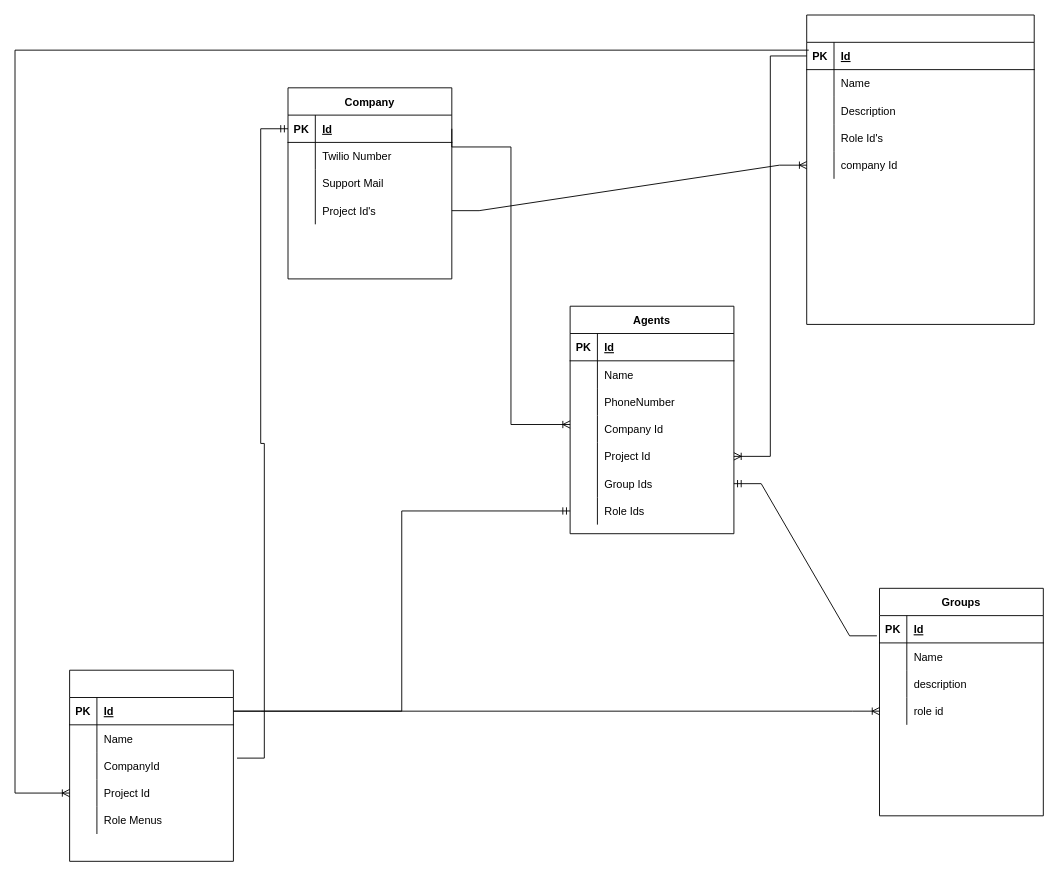
Image size: 1058x876. Some labels were removed from this diagram. Each missing label, with the box of its shape:
Projects: (806, 14, 1034, 324)
Roles: (69, 669, 233, 861)
